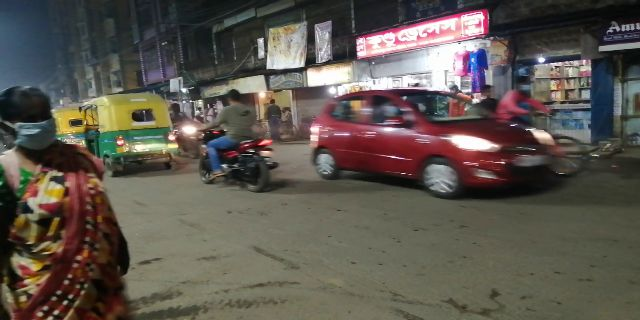Autorickshaw: (82, 93, 178, 170)
Car: (310, 83, 562, 203)
Motorbike: (198, 86, 278, 189)
